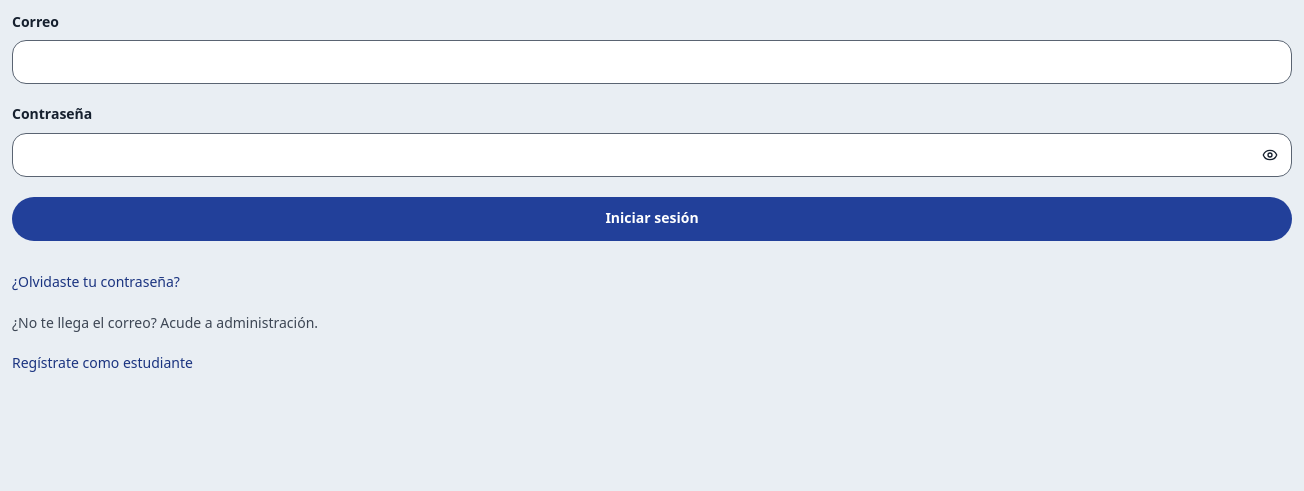
Test case: CHORE-03 · formularios de features/auth ante un VALIDACION fuera de contrato › CH3-C03: iniciar sesión con F1 campo no pintable («campoFueraDeContrato: Revisa este valor.») da un solo MensajeError legible, sin toast ni ErrorDeCampo; lo esc
Step 1. Type "ana@colegio.mx" into the field labelled "Correo" → (652, 62), box 12,40 -> 1292,84
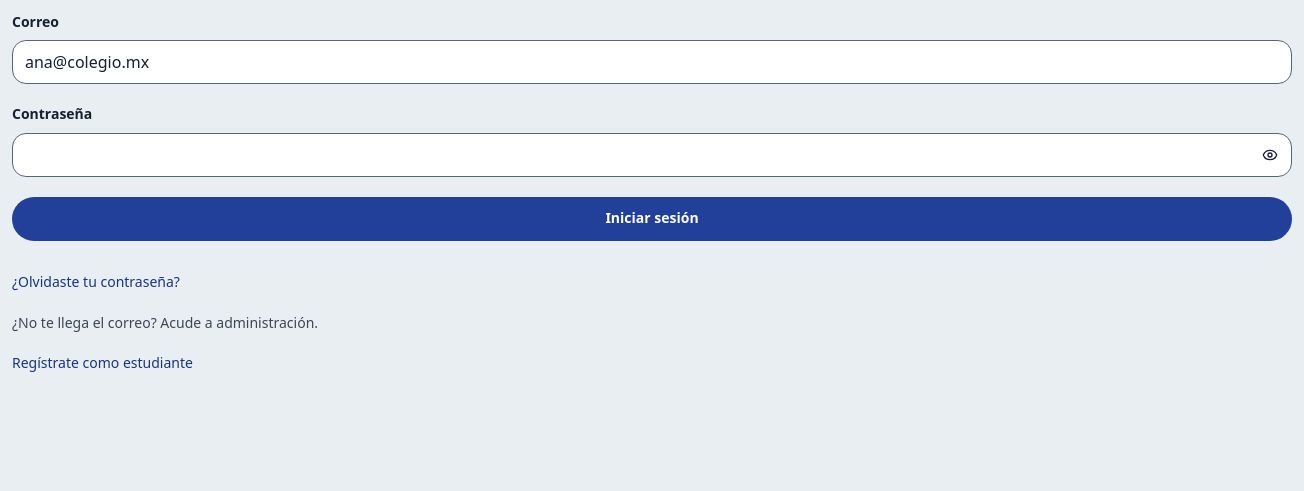
Step 2. Type "clave-secreta-1234" into the password field labelled "Contraseña" → (652, 155), box 12,133 -> 1292,177
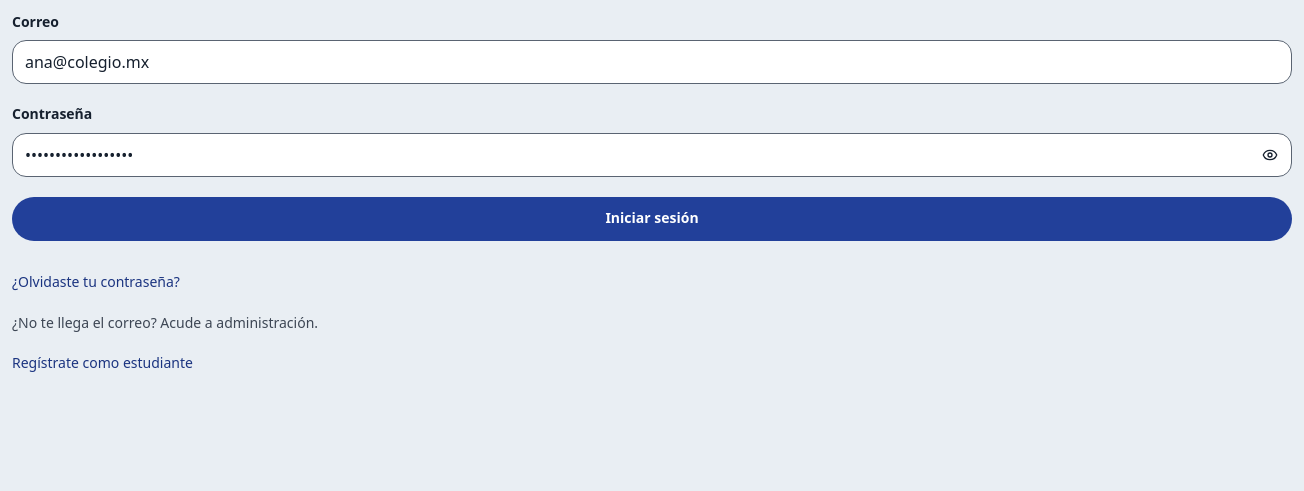
Step 3. Click the button "Iniciar sesión" → (652, 219), box 12,197 -> 1292,241
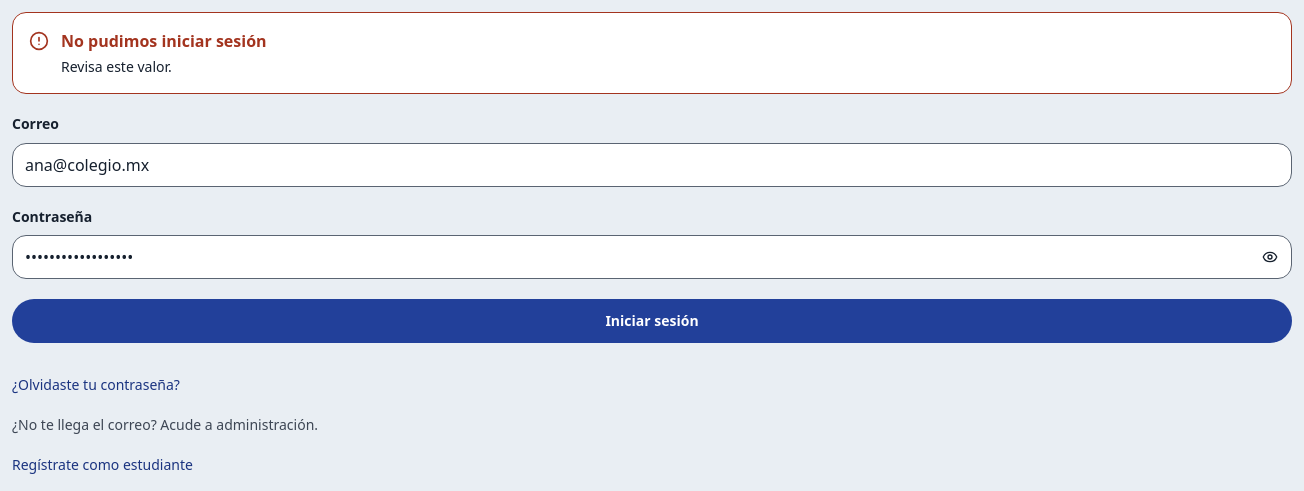
Check: the message does not show "campoFueraDeContrato", box 12,12 -> 1292,94
Check: the number of messages is 1, box 12,12 -> 1292,94
